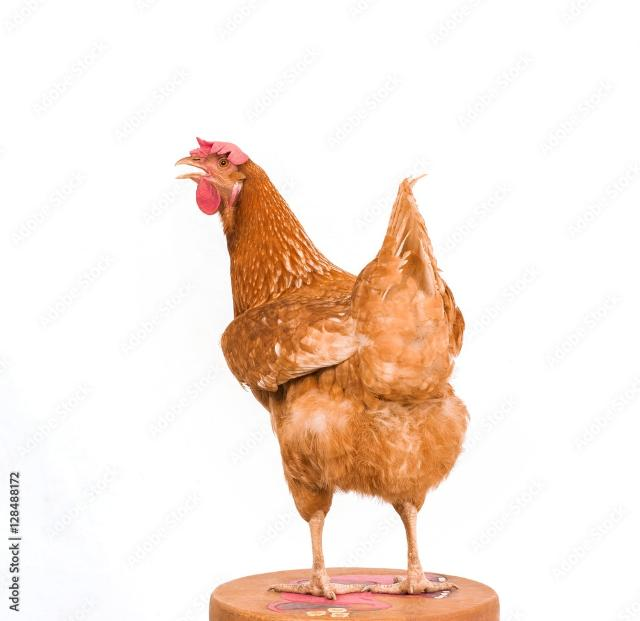Chicken: (175, 135, 469, 602)
